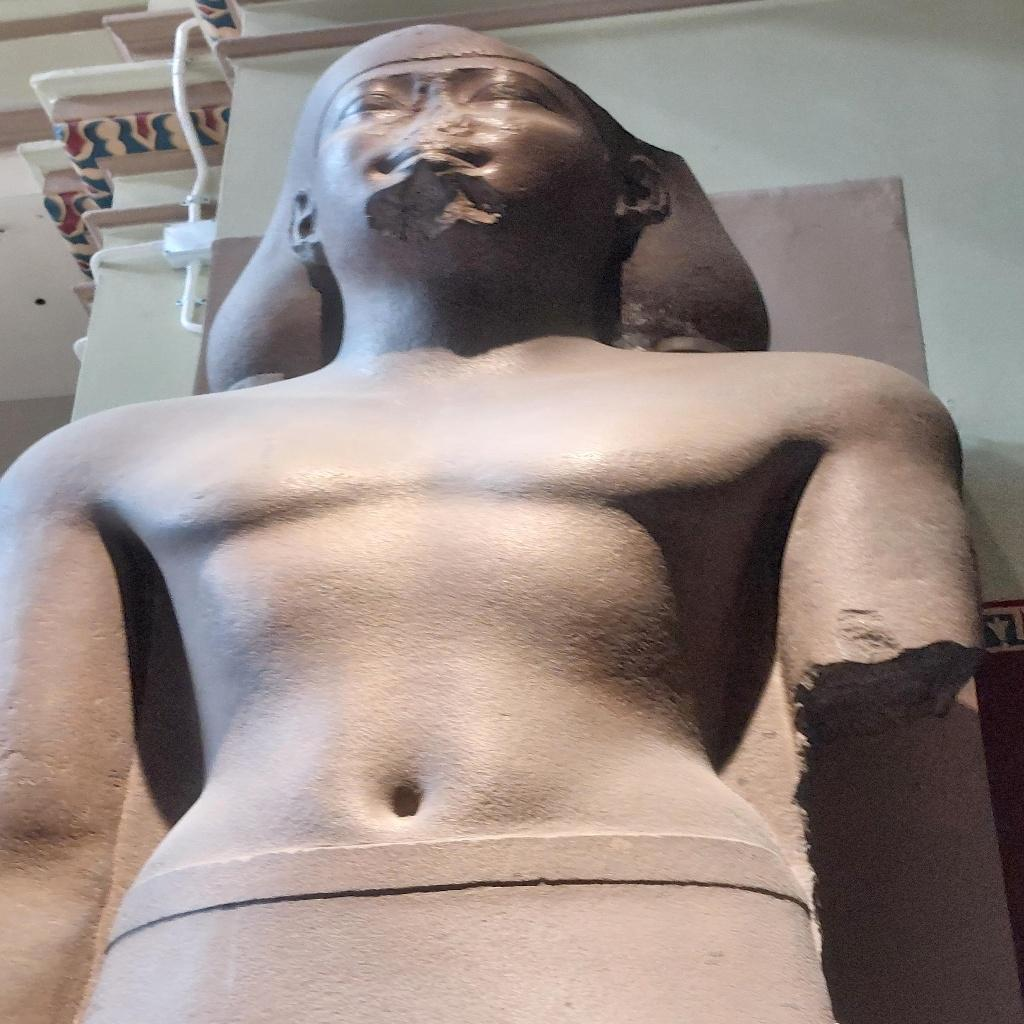Colossal Statue of Hormoheb: (6, 21, 1009, 1018)
